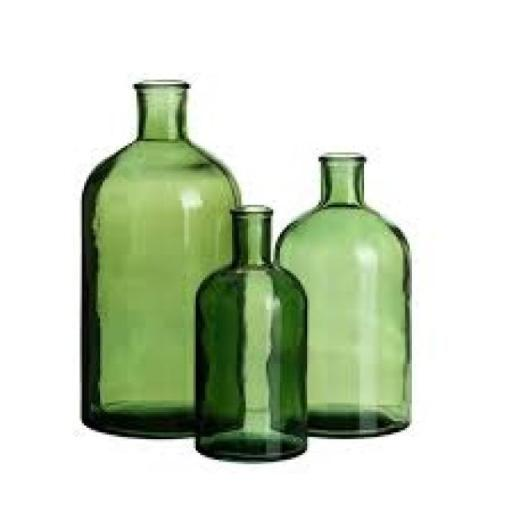glass: (84, 86, 242, 431), (175, 198, 321, 477), (274, 156, 411, 431)
